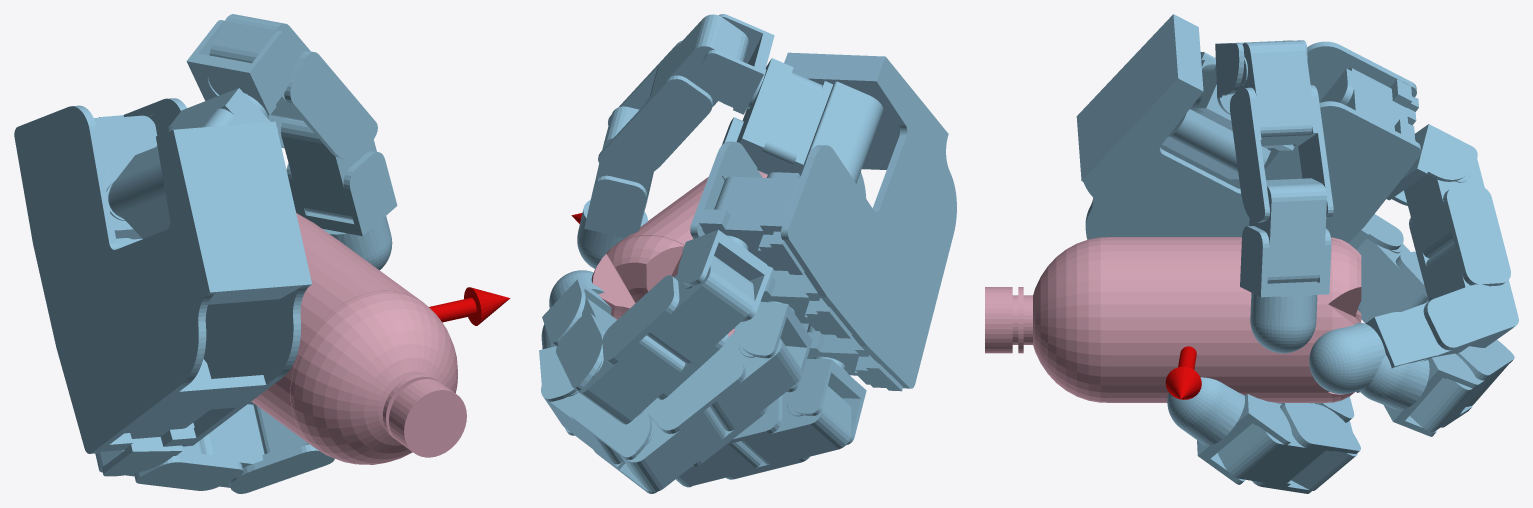
3 renders of one model, left to right at view 1: azimuth 30°, elevation 25°; view 2: azimuth 150°, elevation 25°; view 3: azimuth 270°, elevation 25°, orthographic. The views are drawn at different scales.
Visible parts, largest first — view 1: world, water_bottle.stl; view 2: world, water_bottle.stl; view 3: world, water_bottle.stl.
Part boxes in pixels (x1,y1,x2,y2): world: (14,14,510,493); water_bottle.stl: (251,212,466,464); world: (539,14,956,493); water_bottle.stl: (591,171,767,337); world: (1076,14,1518,493); water_bottle.stl: (985,237,1361,402).
Bounding box in the file's own units: 0.1529 × 0.1805 × 0.1937.
